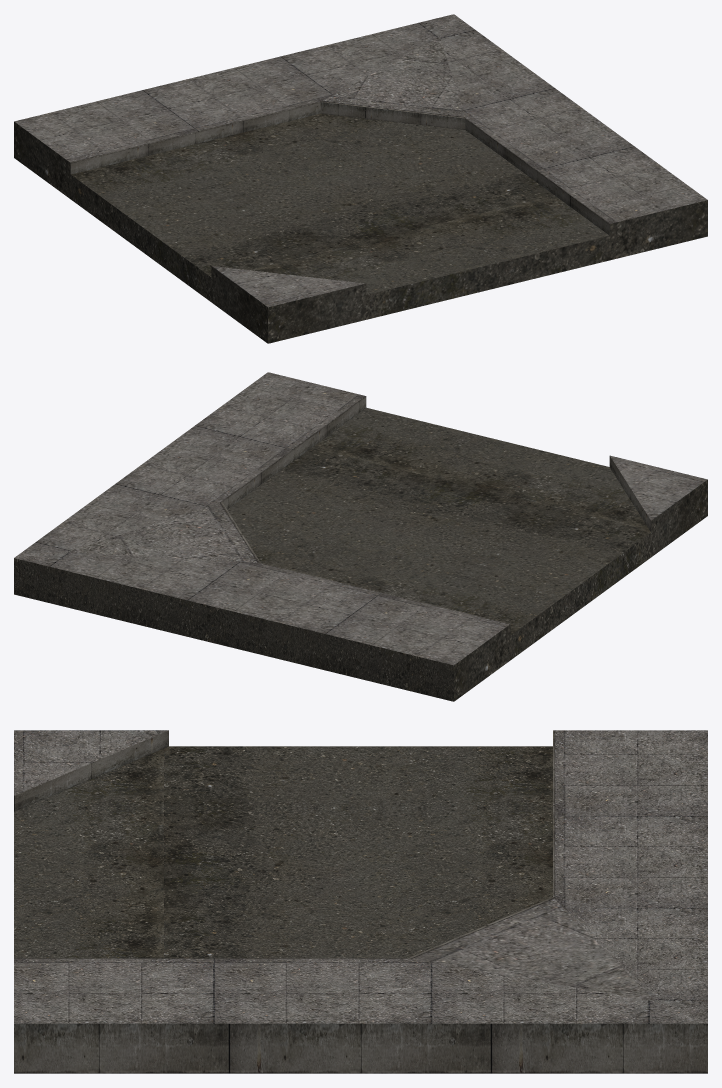
Rendered from 2WayRoad.fbx.
3 views of the same model, one above another, from view 1: azimuth 30°, elevation 25°; view 2: azimuth 150°, elevation 25°; view 3: azimuth 270°, elevation 25° (orthographic). The views are drawn at different scales.
Parts seen in each view (by area): view 1: 2WayRoad; view 2: 2WayRoad; view 3: 2WayRoad.
Part boxes in pixels (left/top/right/bottom): 2WayRoad: left=14, top=14, right=707, bottom=343; 2WayRoad: left=14, top=372, right=707, bottom=701; 2WayRoad: left=14, top=730, right=707, bottom=1073.
Size of the model in its own units: 4.75 by 0.3759 by 4.75.
2 materials, 2 textured.
